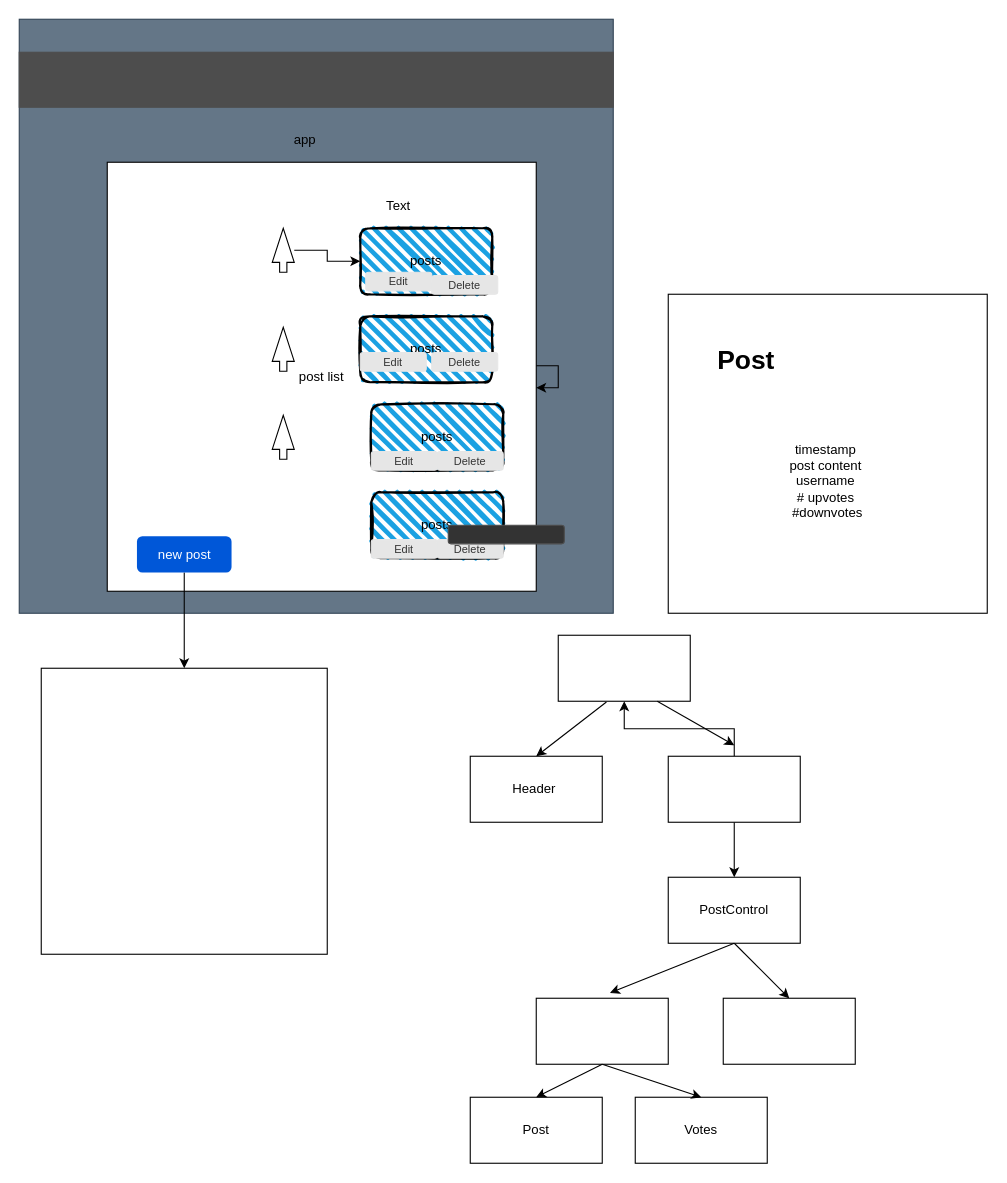
Image size: 1007x1183. Some labels were removed from this diagram. Here are the shapes that lost their labels. From the top down, the centre of each, then its label:
At [315,79]: "Reddit Clone".
At [505,534]: "Focused disabled".
At [623,667]: "App.js".
At [733,788]: "Body".
At [183,810]: "Form for new post".
At [601,1030]: "PostList".
At [788,1030]: "NewPostForm".
